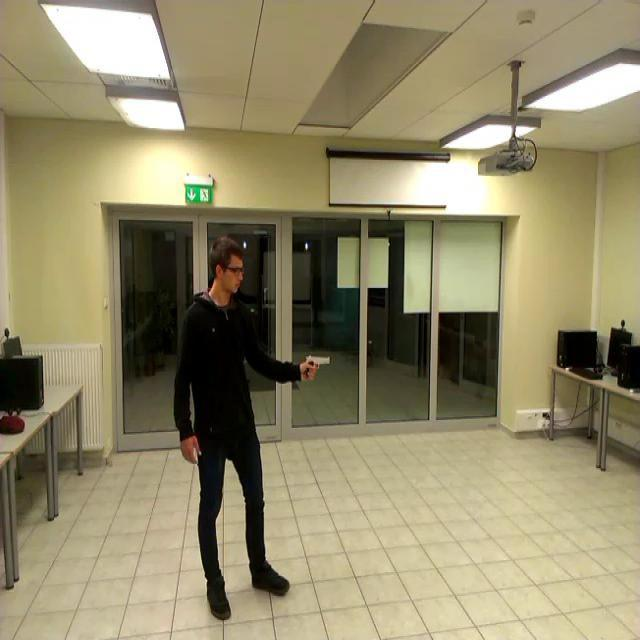weapon: (304, 357, 330, 380)
